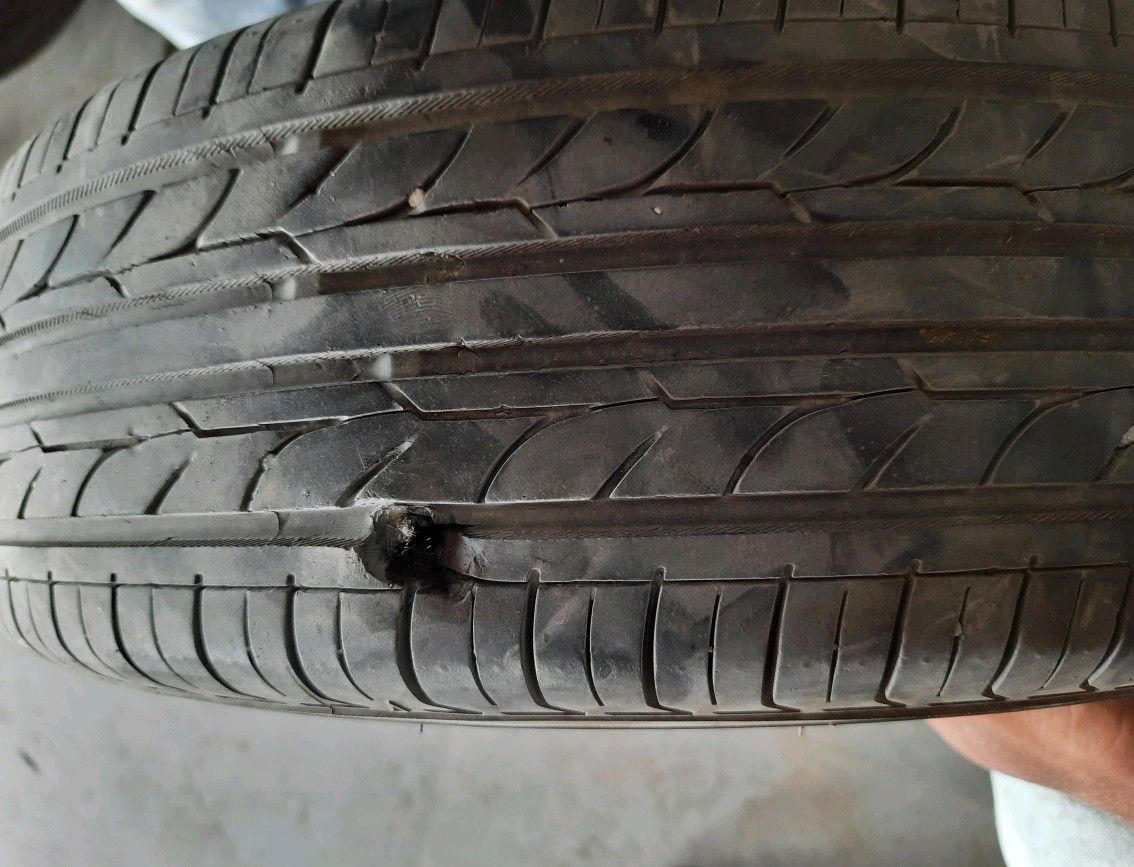tr: (352, 497, 497, 608)
